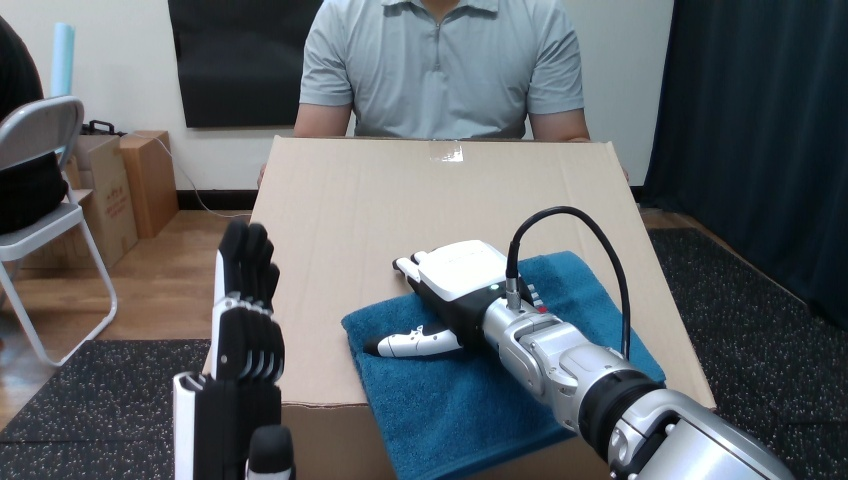left robot hand: (345, 240, 789, 477), (173, 220, 284, 479)
